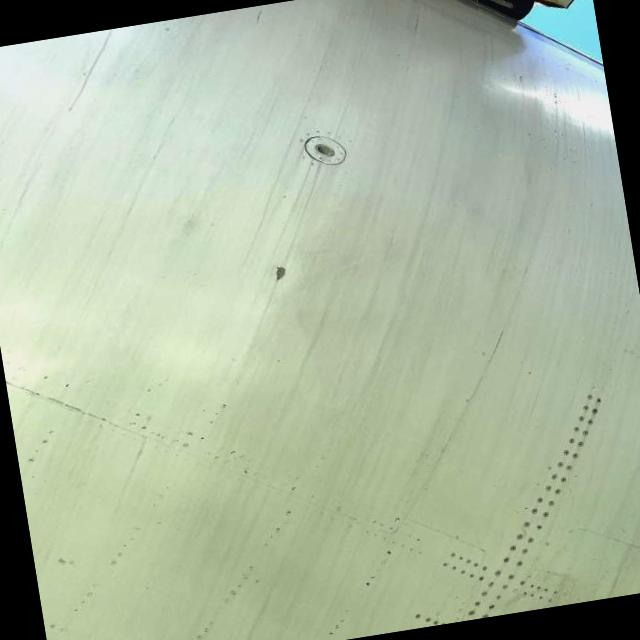crack: (480, 328, 513, 364), (272, 260, 296, 286)
